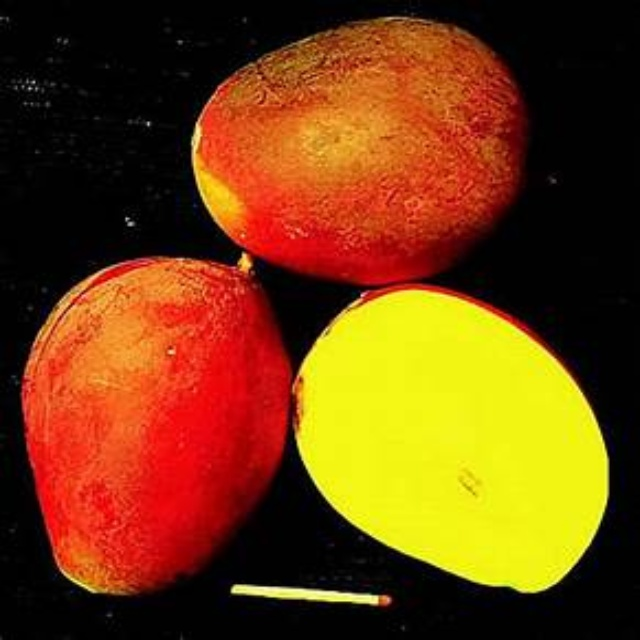mango: (299, 281, 629, 595), (25, 253, 289, 589), (190, 20, 518, 272)
